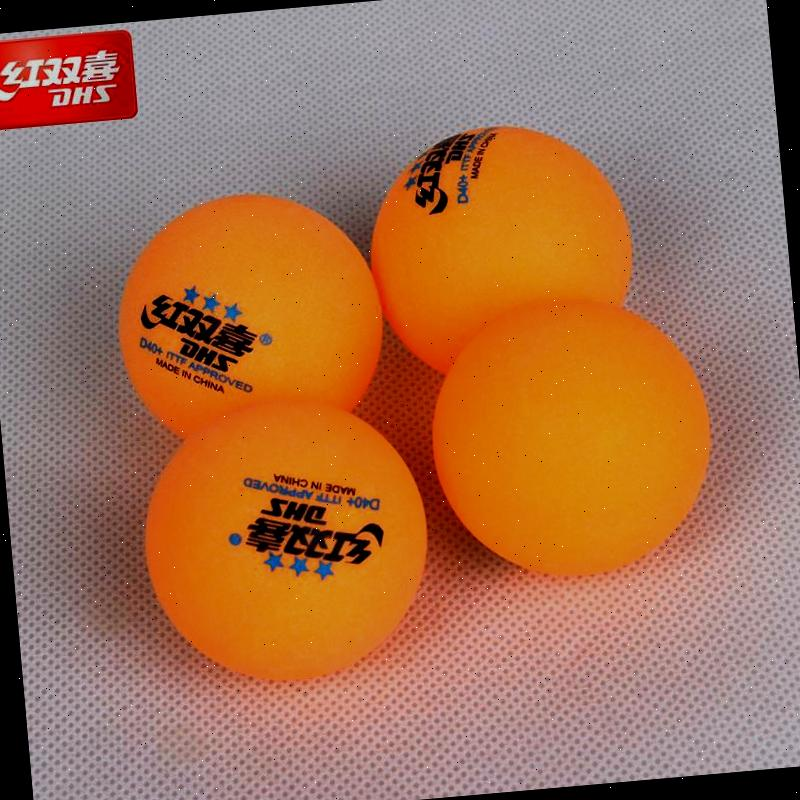ball: (125, 382, 444, 701), (416, 281, 728, 595), (101, 174, 394, 456), (354, 108, 644, 384)
